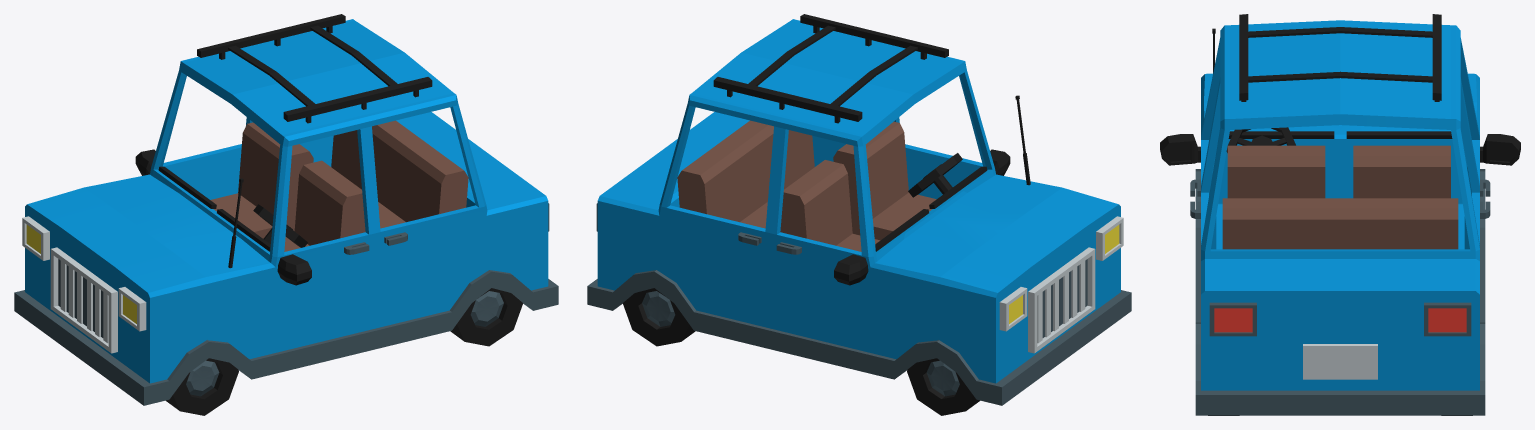
The model's file is car.fbx.
The picture shows the model from 3 angles, left to right: view 1: azimuth 30°, elevation 25°; view 2: azimuth 150°, elevation 25°; view 3: azimuth 270°, elevation 25°; orthographic projection. The views are drawn at different scales.
Visible parts, largest first — view 1: car; view 2: car; view 3: car.
Part boxes in pixels (x1,y1,x2,y2): car: (14, 14, 558, 415); car: (587, 14, 1131, 415); car: (1160, 14, 1520, 415).
Bounding box in the file's own units: 32347 × 20020 × 21814.
